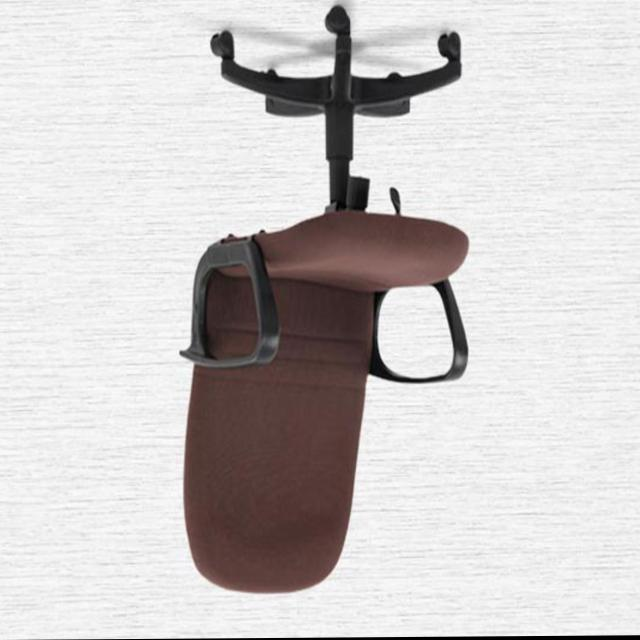Chair: (199, 5, 476, 594)
